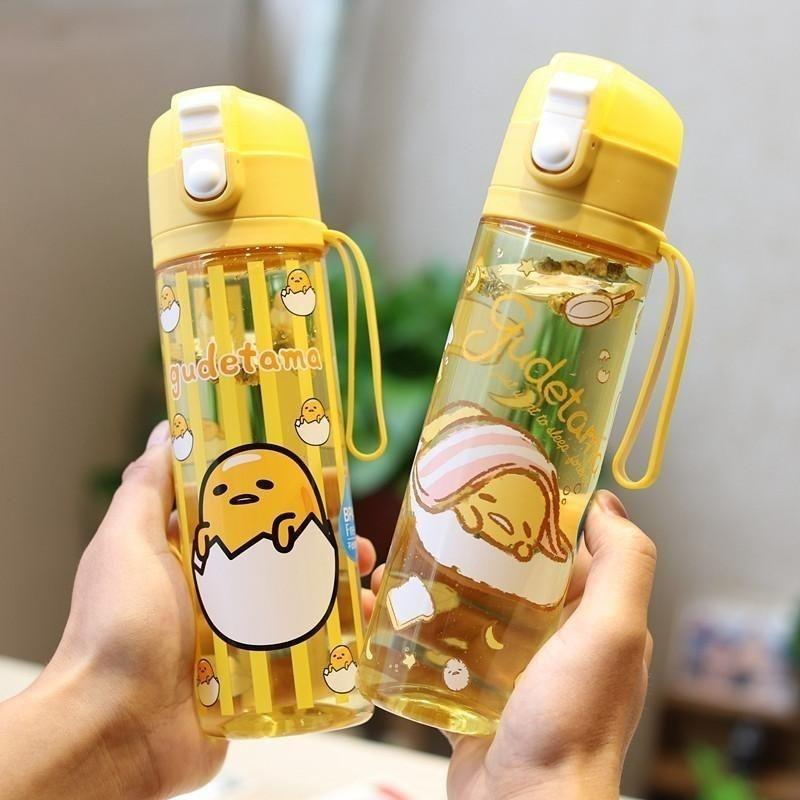gym bottle: (358, 49, 686, 725), (149, 81, 377, 740)
